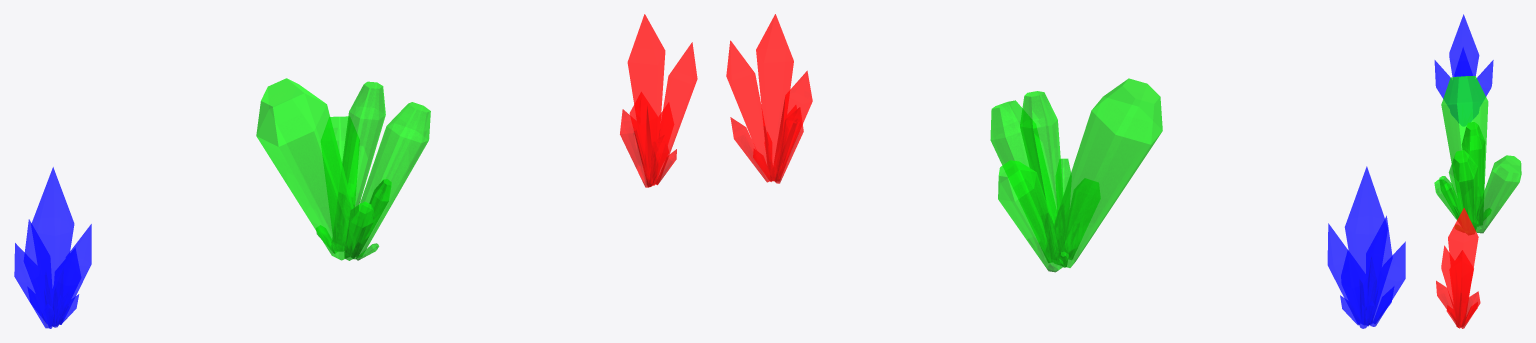
The picture shows the model from 3 angles, left to right: view 1: azimuth 30°, elevation 25°; view 2: azimuth 150°, elevation 25°; view 3: azimuth 270°, elevation 25°; orthographic projection. The views are drawn at different scales.
Parts seen in each view (by area): view 1: Diamond, Ruby, Sapphire; view 2: Diamond, Ruby, Sapphire; view 3: Diamond, Sapphire, Ruby.
Boxes of the visible parts, x1,y1,x2,y2 form: Diamond: [256, 78, 430, 260]; Ruby: [620, 14, 697, 187]; Sapphire: [14, 167, 91, 328]; Diamond: [990, 78, 1162, 272]; Ruby: [726, 14, 812, 183]; Sapphire: [1327, 166, 1405, 328]; Diamond: [1434, 76, 1521, 234]; Sapphire: [1434, 14, 1493, 125]; Ruby: [1436, 208, 1480, 328].
Size of what is drawn, in the model's own units: 9.07 by 2.49 by 1.46.
Materials: 3 (3 with a texture image).
